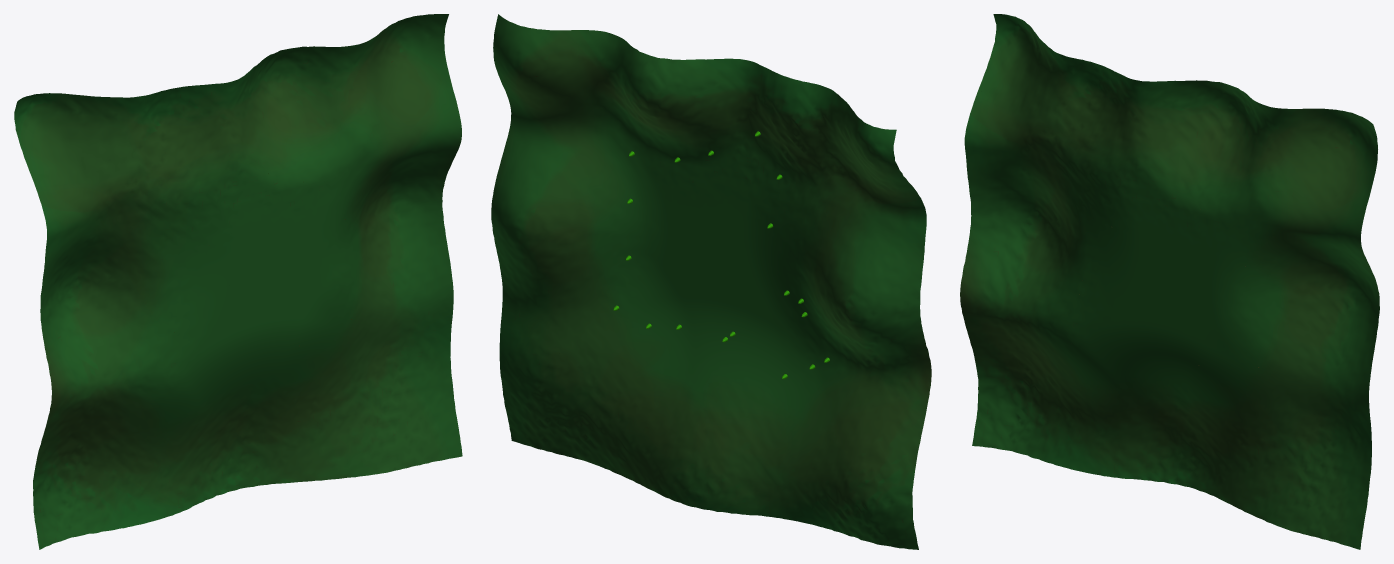
File: ground2.dae
The picture shows the model from 3 angles, left to right: view 1: azimuth 30°, elevation 25°; view 2: azimuth 150°, elevation 25°; view 3: azimuth 330°, elevation 25°; orthographic projection. The views are drawn at different scales.
Visible parts, largest first — view 1: Plane; view 2: Plane; view 3: Plane.
Part boxes in pixels (bbox=[...]): Plane: bbox=[14, 14, 462, 549]; Plane: bbox=[491, 14, 931, 549]; Plane: bbox=[960, 14, 1379, 549].
Bounding box in the file's own units: 2 × 0.3523 × 2.
2 materials, 2 textured.
